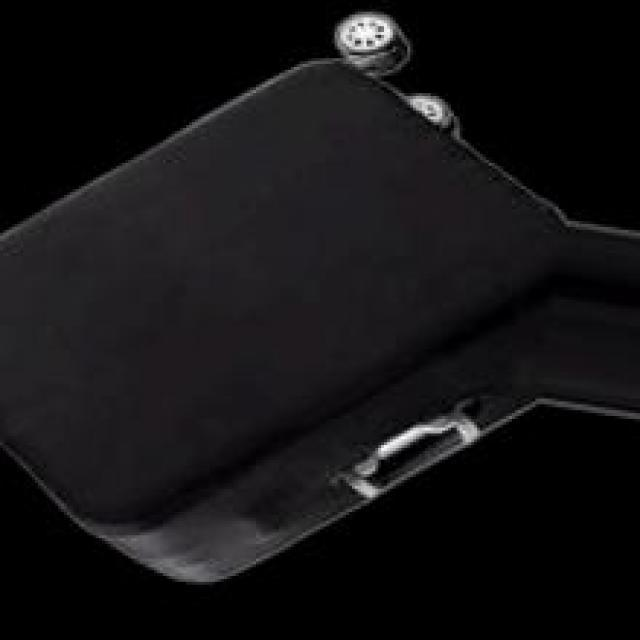Suitcase: (10, 19, 582, 590)
